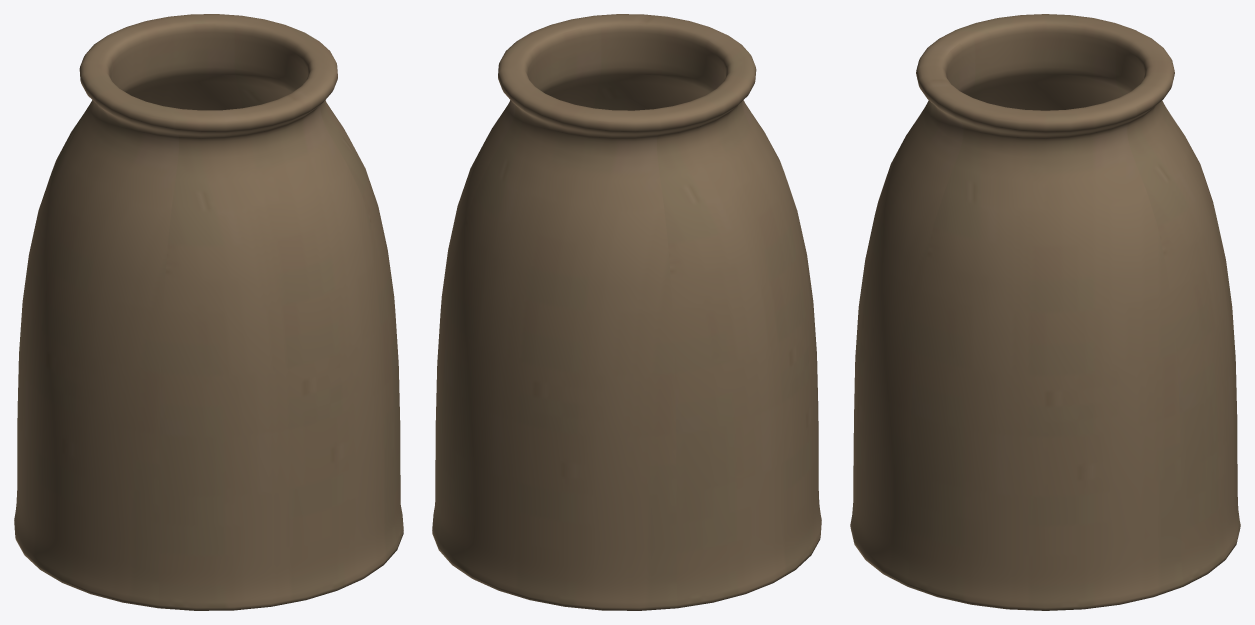
The model's file is LB-VASE-04.glb.
3 views of the same model, side by side, from view 1: azimuth 30°, elevation 25°; view 2: azimuth 150°, elevation 25°; view 3: azimuth 270°, elevation 25° (orthographic).
Visible parts, largest first — view 1: 001; view 2: 001; view 3: 001.
Part boxes in pixels (x1,y1,x2,y2): 001: (14,14,403,610); 001: (432,14,821,610); 001: (850,14,1240,610).
Size of the model in its own units: 0.1601 by 0.21 by 0.1601.
Materials: 1 (1 with a texture image).
